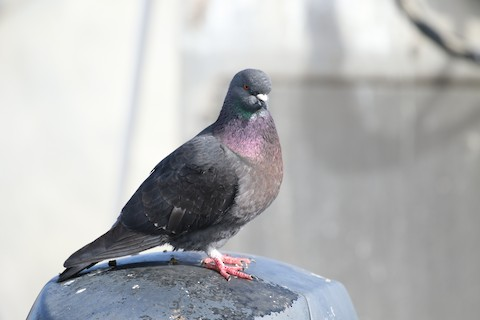pigeon: (53, 66, 291, 285)
